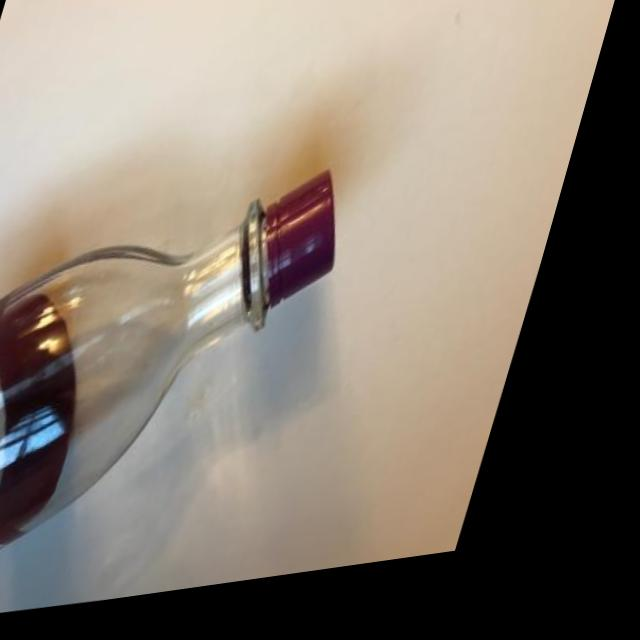glass: (0, 111, 418, 640)
